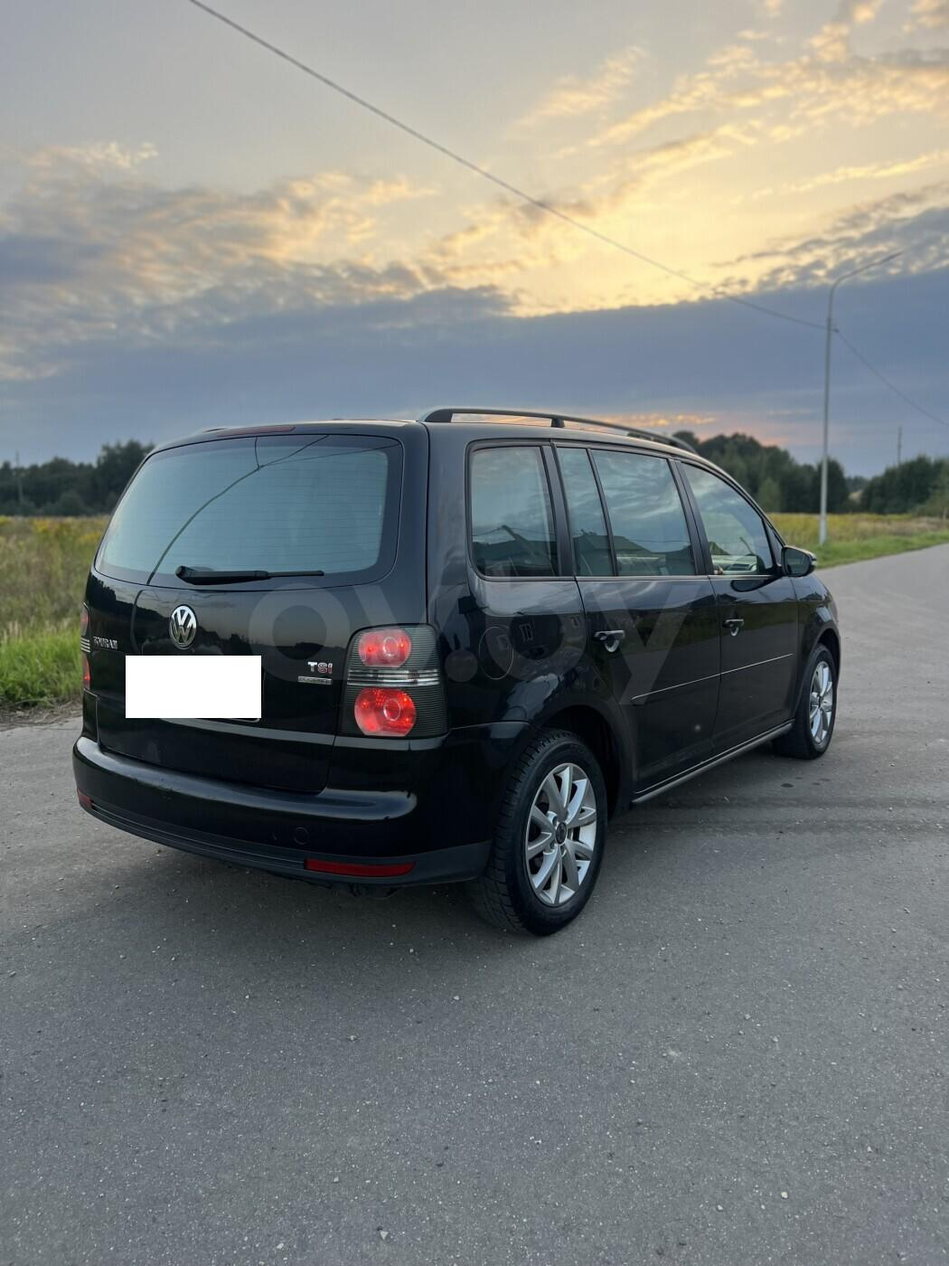Touran_2006-2010: (69, 407, 851, 931)
